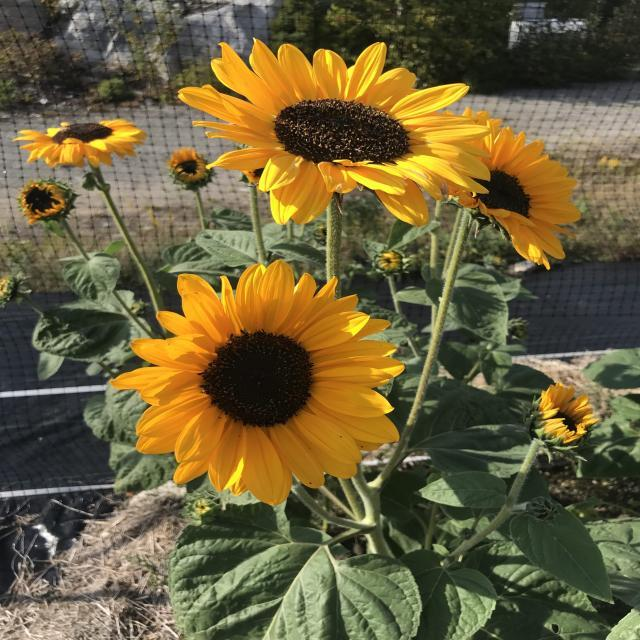sunflower: (108, 258, 406, 506), (176, 38, 494, 228), (444, 108, 582, 270), (12, 119, 146, 168), (540, 382, 600, 444), (21, 180, 68, 224), (168, 146, 208, 185), (373, 248, 410, 274), (240, 166, 270, 194), (0, 276, 14, 300)
